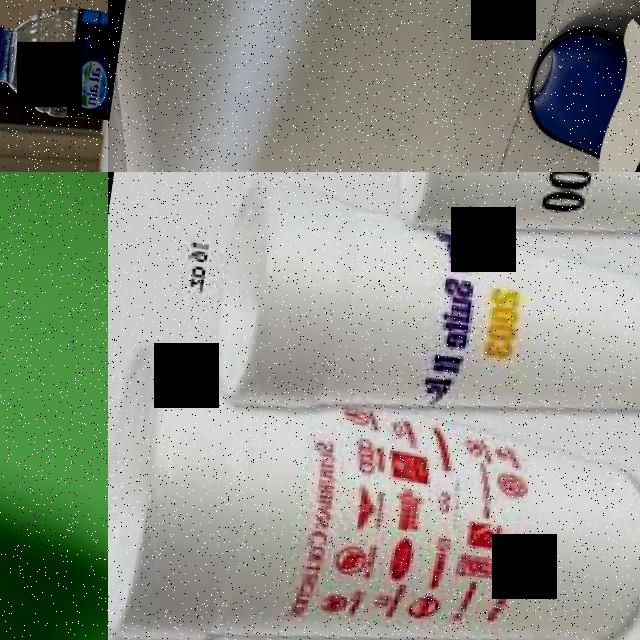bottle: (0, 0, 108, 149)
cup: (108, 331, 640, 640), (202, 172, 640, 472), (392, 172, 640, 266)
